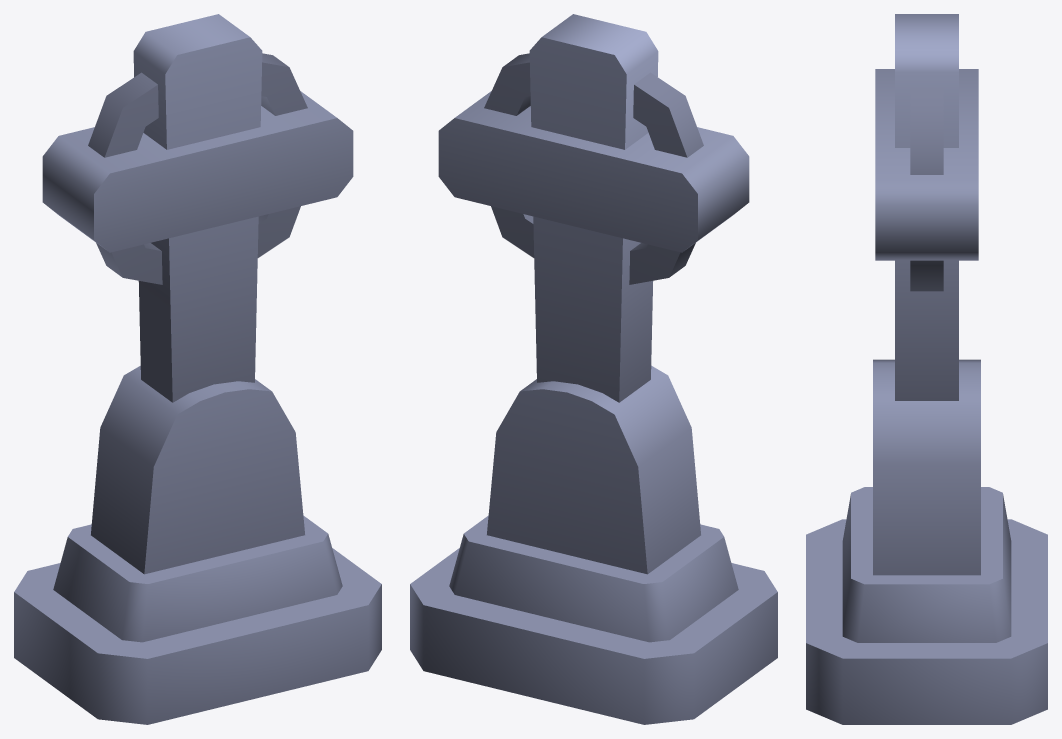
The model's file is gravestone-cross-large.glb.
3 renders of one model, left to right at view 1: azimuth 30°, elevation 25°; view 2: azimuth 150°, elevation 25°; view 3: azimuth 270°, elevation 25°, orthographic.
Parts seen in each view (by area): view 1: gravestone-cross-large; view 2: gravestone-cross-large; view 3: gravestone-cross-large.
Part boxes in pixels (x1,y1,x2,y2): gravestone-cross-large: (14,14,381,724); gravestone-cross-large: (410,14,777,724); gravestone-cross-large: (806,14,1047,724).
Size of the model in its own units: 0.45 by 0.9383 by 0.33.
